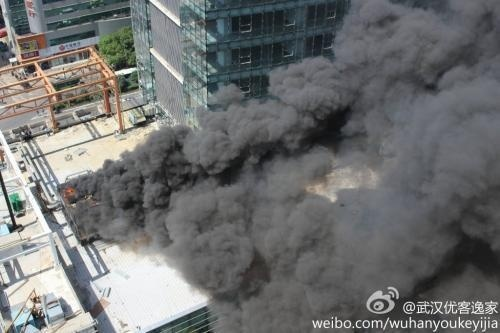fire: (65, 185, 74, 197)
